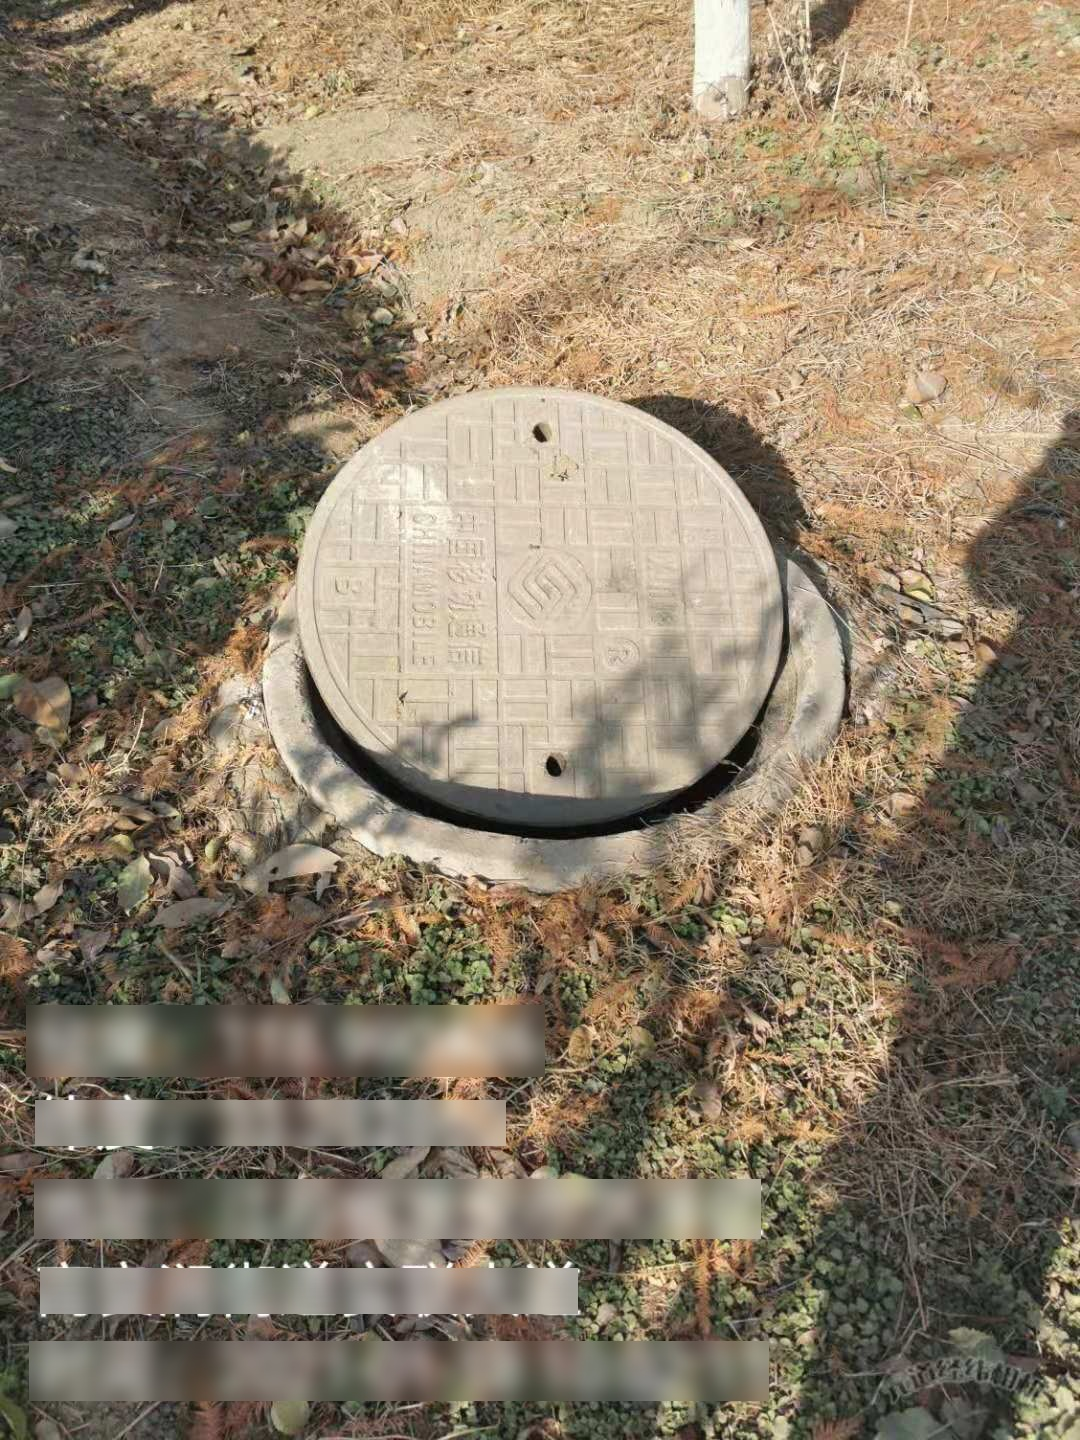well: (260, 381, 857, 880)
